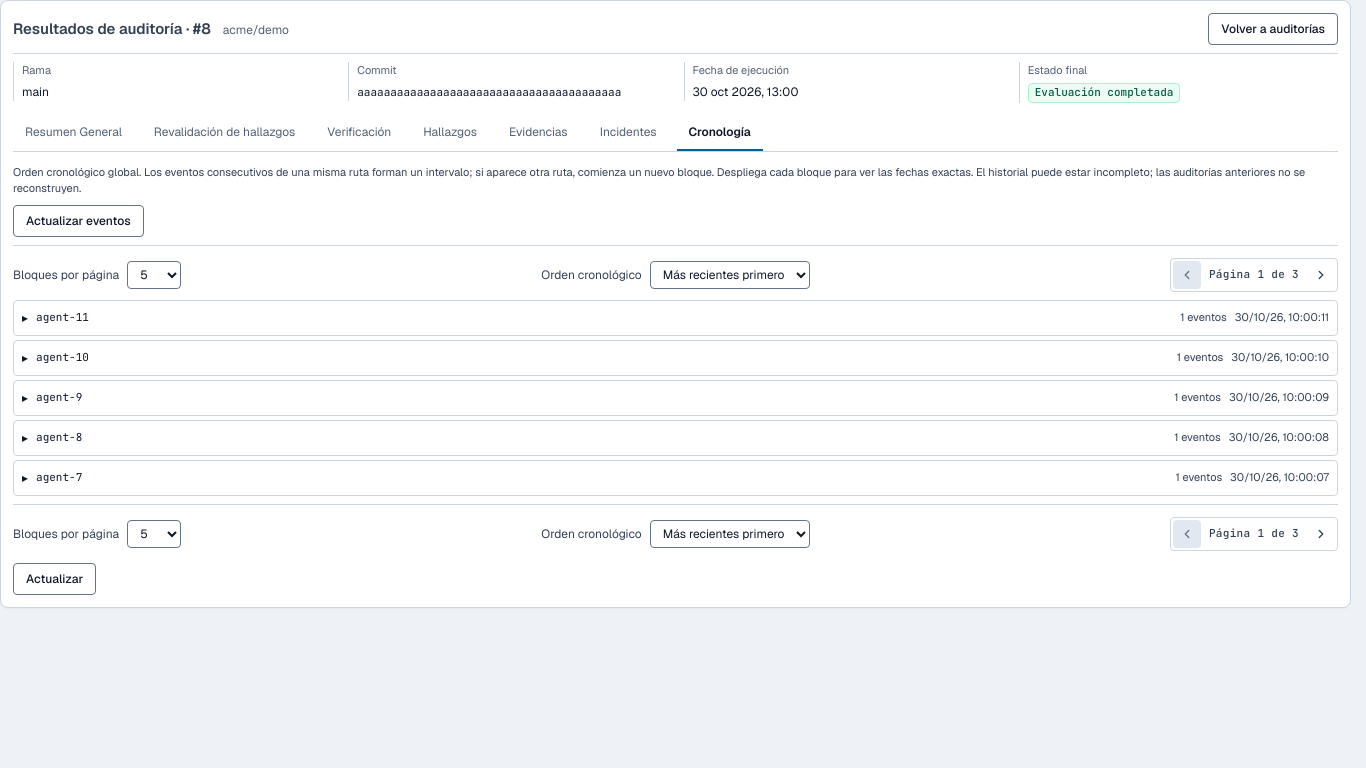
orders the entire history before pagination and resets the page without refetching
Expected: the 1st dropdown labelled "Orden cronológico" shows "Más recientes primero", [650, 260, 810, 288]
Expected: the 1st element labelled "Orden cronológico" is shown, [13, 244, 1338, 292]
Click the 1st button named "Página siguiente" at (1321, 274), box [1307, 260, 1335, 288]
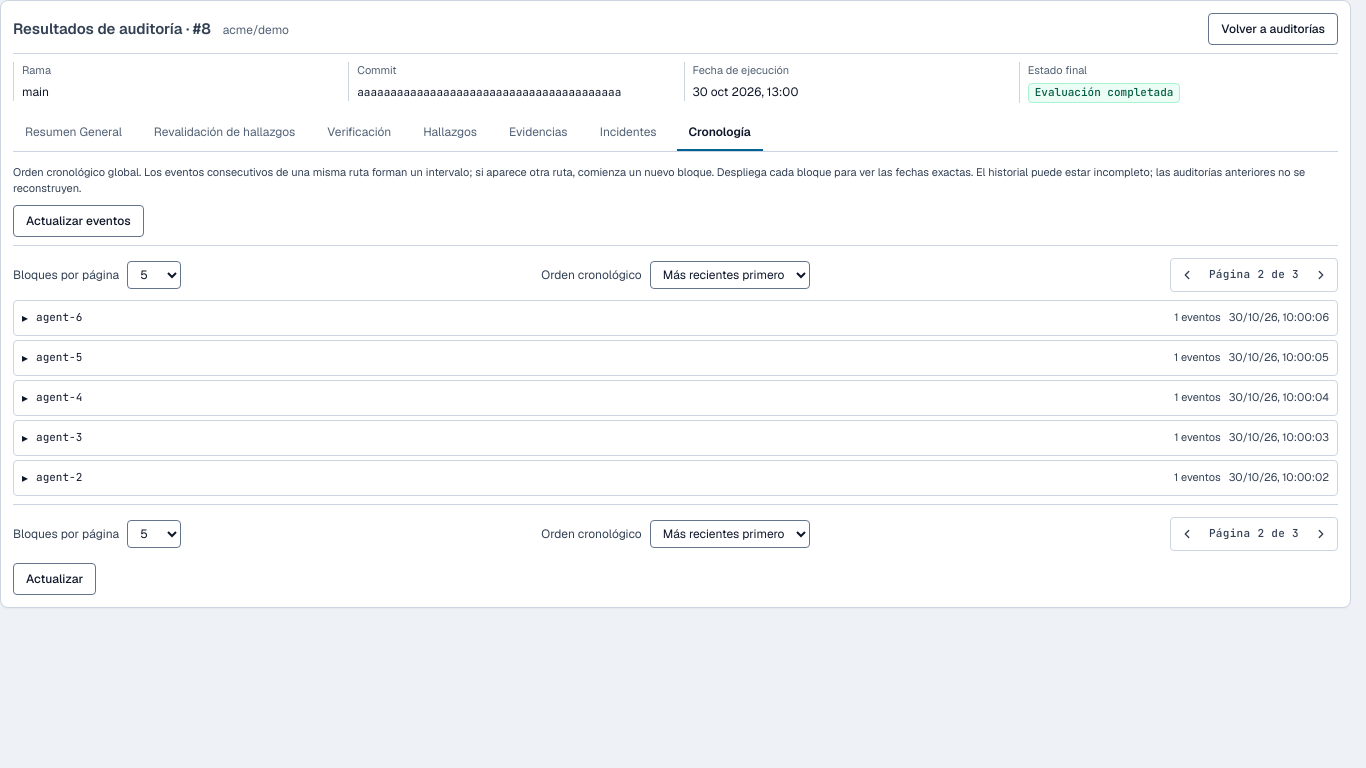
Select "Más antiguos primero" in the 1st dropdown labelled "Orden cronológico" at (730, 274), box [650, 260, 810, 288]
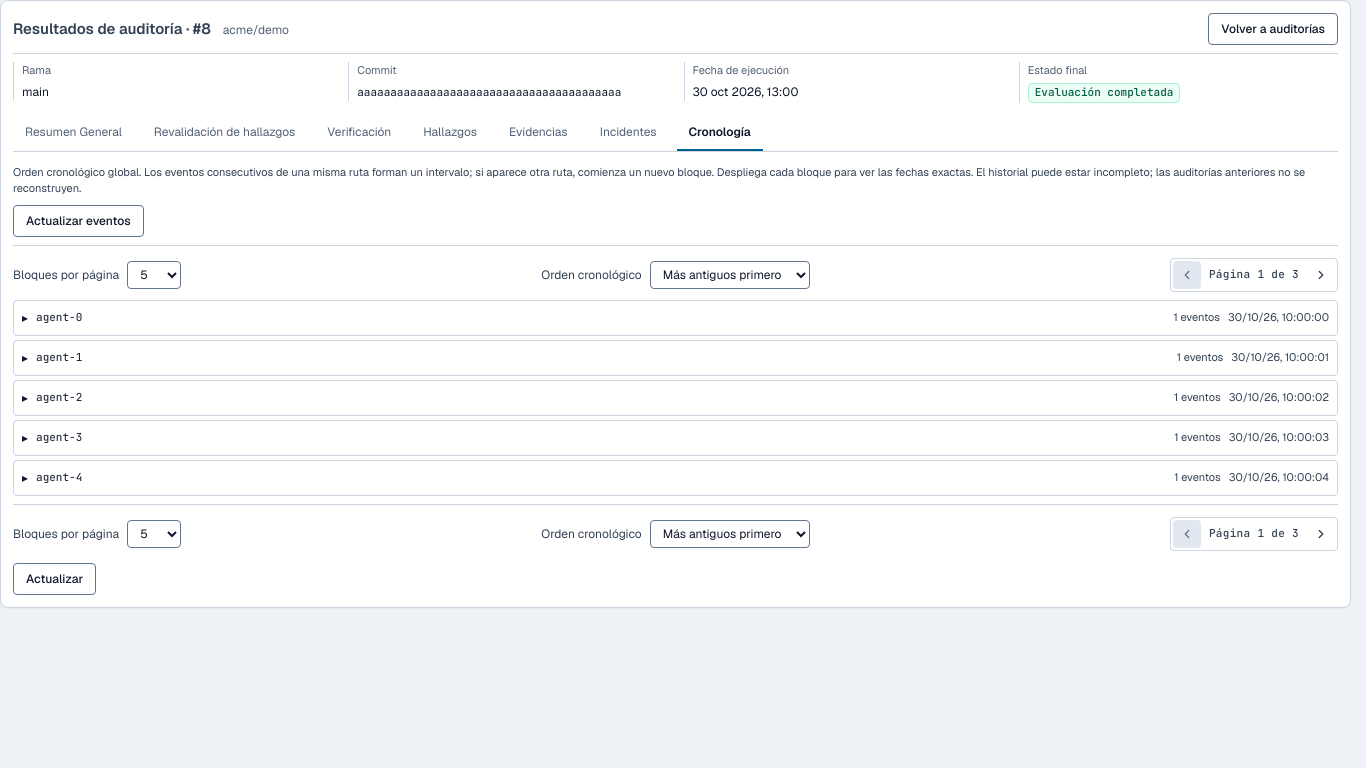
Expected: the heading "agent-0 1 eventos 30/10/26, 10:00:00" is shown, [22, 308, 1329, 326]
Click the 2nd button named "Página siguiente" at (1321, 534), box [1307, 520, 1335, 548]
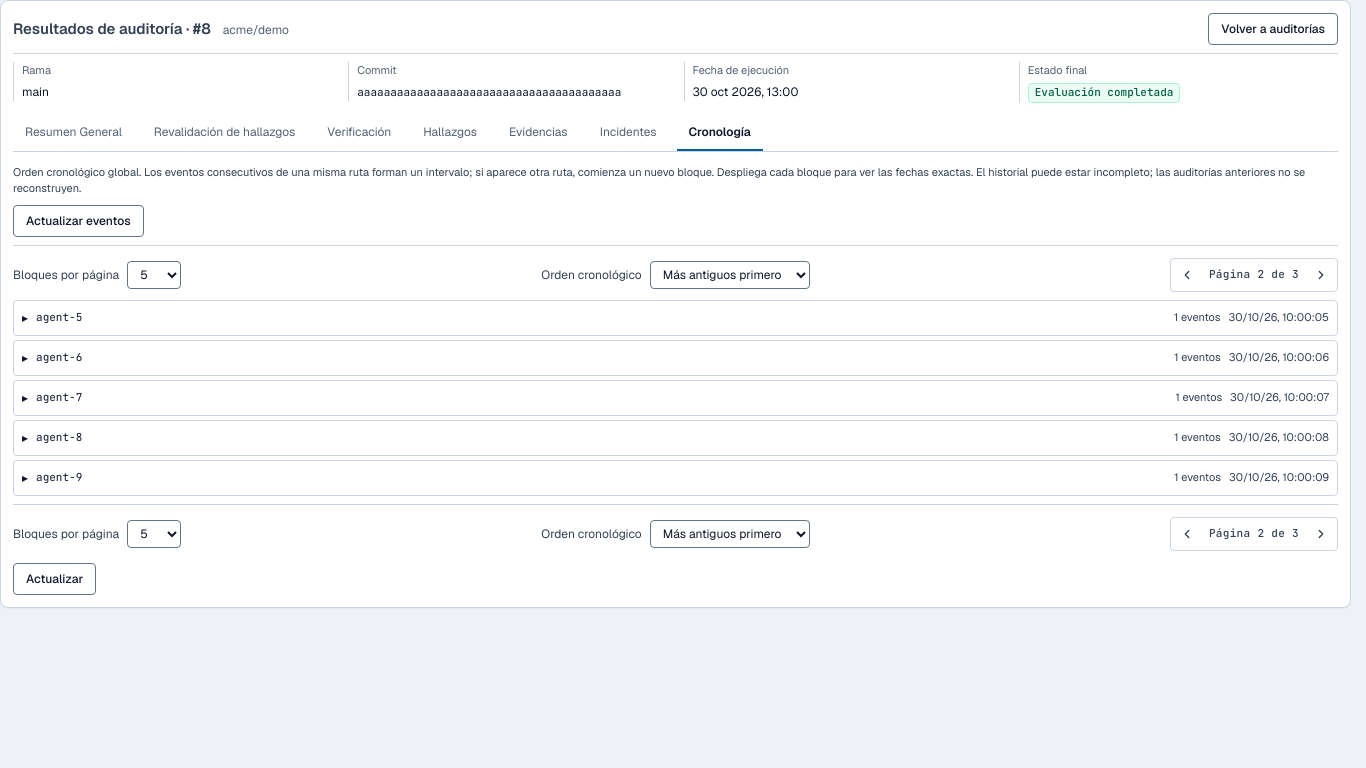
Expected: the heading "agent-5 1 eventos 30/10/26, 10:00:05" is shown, [22, 308, 1329, 326]
Select "Más recientes primero" in the 2nd dropdown labelled "Orden cronológico" at (730, 534), box [650, 520, 810, 548]
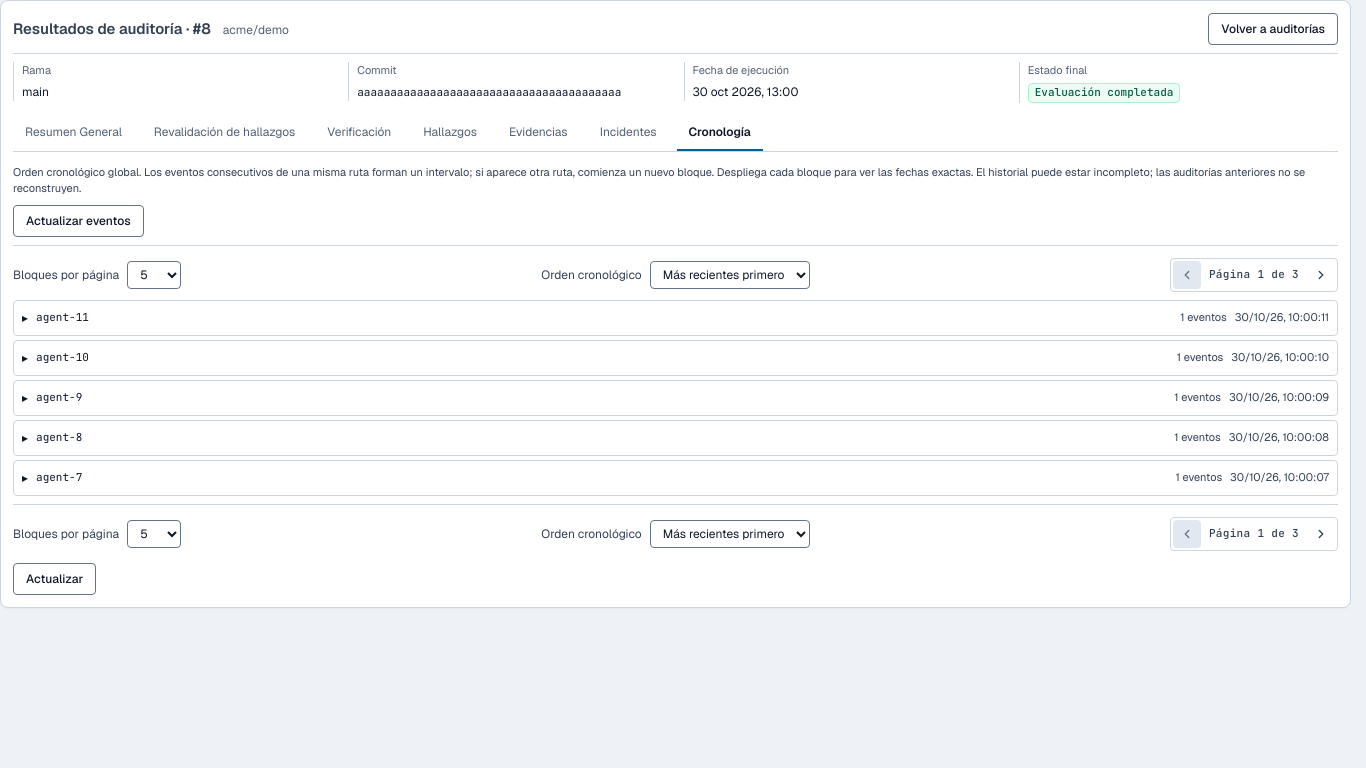
Expected: the heading "agent-11 1 eventos 30/10/26, 10:00:11" is shown, [22, 308, 1329, 326]
